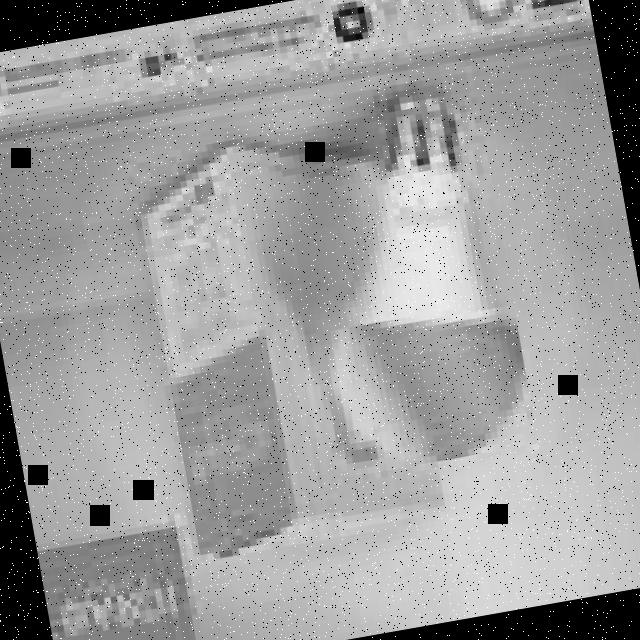light_bulb: (266, 62, 566, 500)
